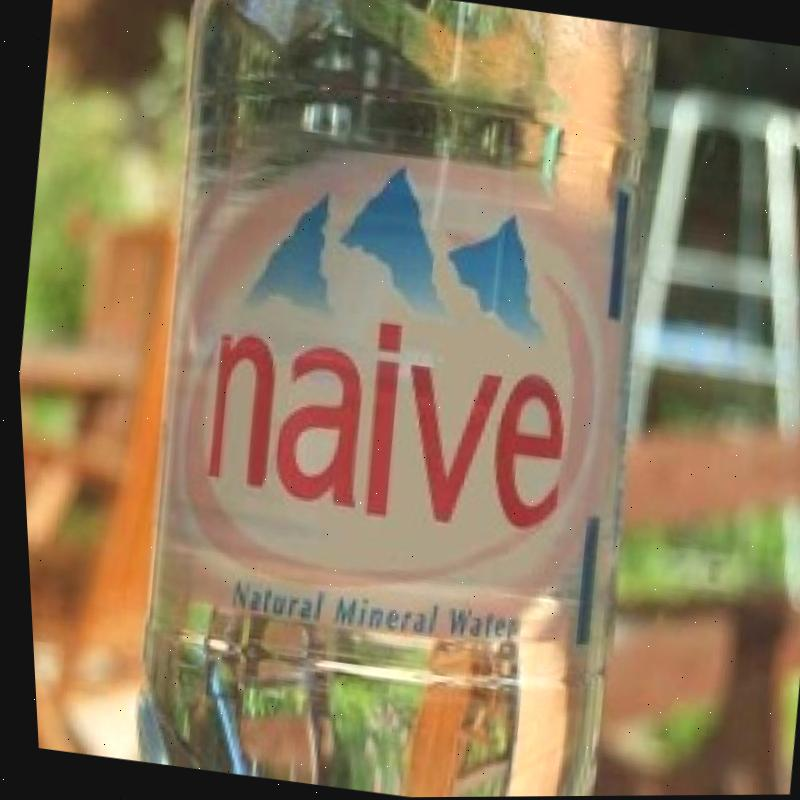botella: (79, 0, 704, 800)
